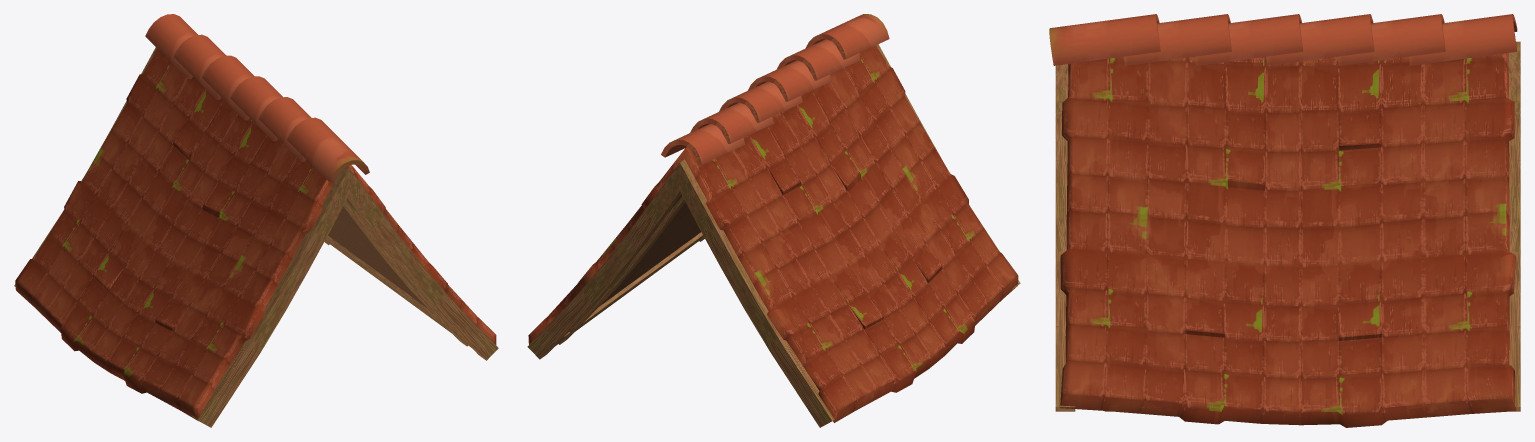
Rendered from Roof_FlatTiles_4x4.gltf.
3 renders of one model, left to right at view 1: azimuth 30°, elevation 25°; view 2: azimuth 150°, elevation 25°; view 3: azimuth 270°, elevation 25°, orthographic. The views are drawn at different scales.
Parts seen in each view (by area): view 1: Roof_FlatTiles_4x4; view 2: Roof_FlatTiles_4x4; view 3: Roof_FlatTiles_4x4.
Boxes of the visible parts, <box> form: Roof_FlatTiles_4x4: <box>14,14,498,427</box>; Roof_FlatTiles_4x4: <box>527,14,1020,427</box>; Roof_FlatTiles_4x4: <box>1049,14,1520,427</box>.
Size of the model in its own units: 5.53 by 4.09 by 5.56.
Materials: 3 (3 with a texture image).
